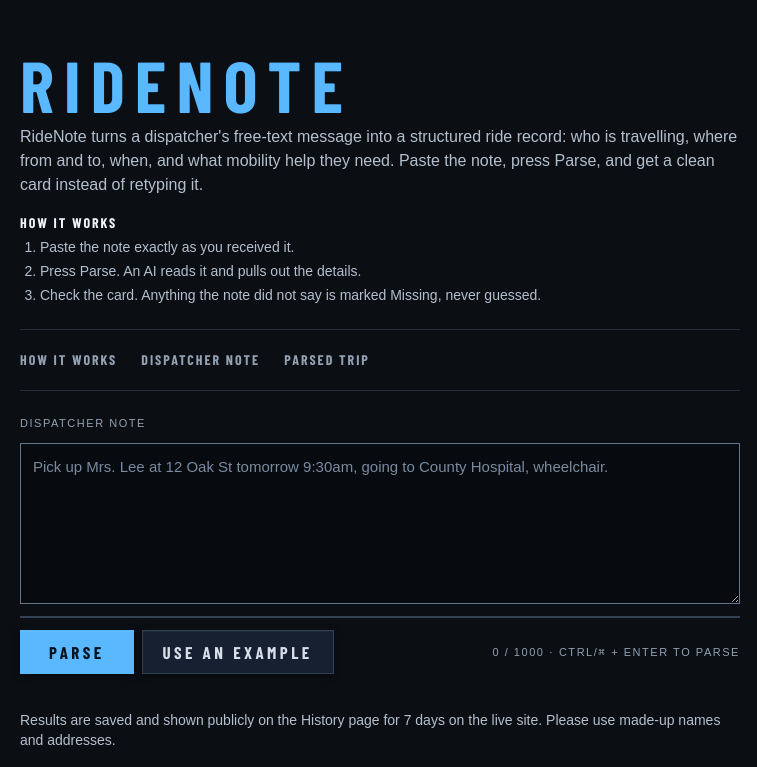
Test: Home page › loads an example note and parses it
This screenshot has width=757, height=767.
Click the button "Use an example": (238,652) [142, 630, 334, 674]
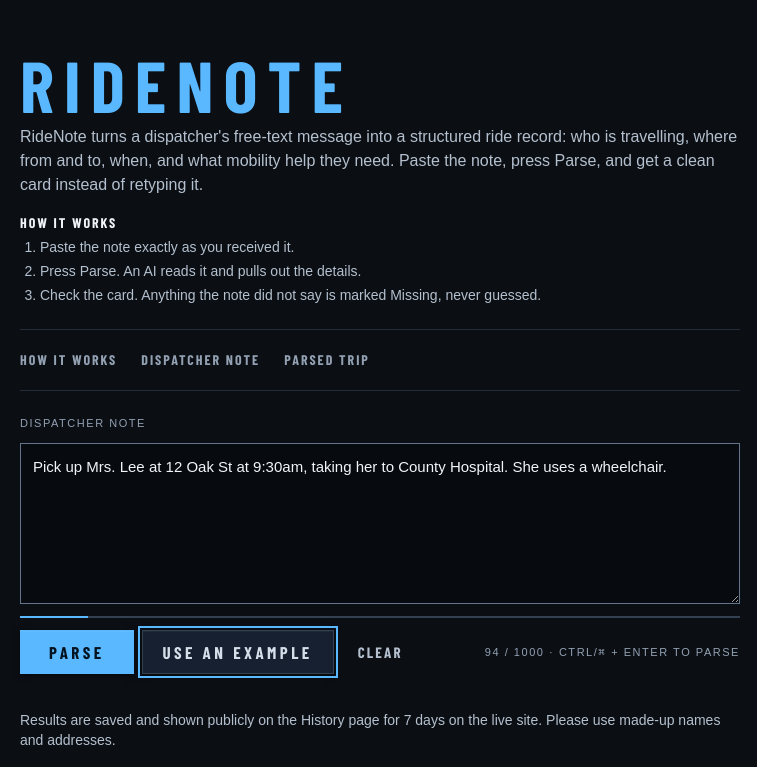
Check: the text box labelled "Dispatcher note" is not empty, box [20, 443, 740, 604]
Click the button "Parse": (77,652) [20, 630, 134, 674]
(page scrolled)
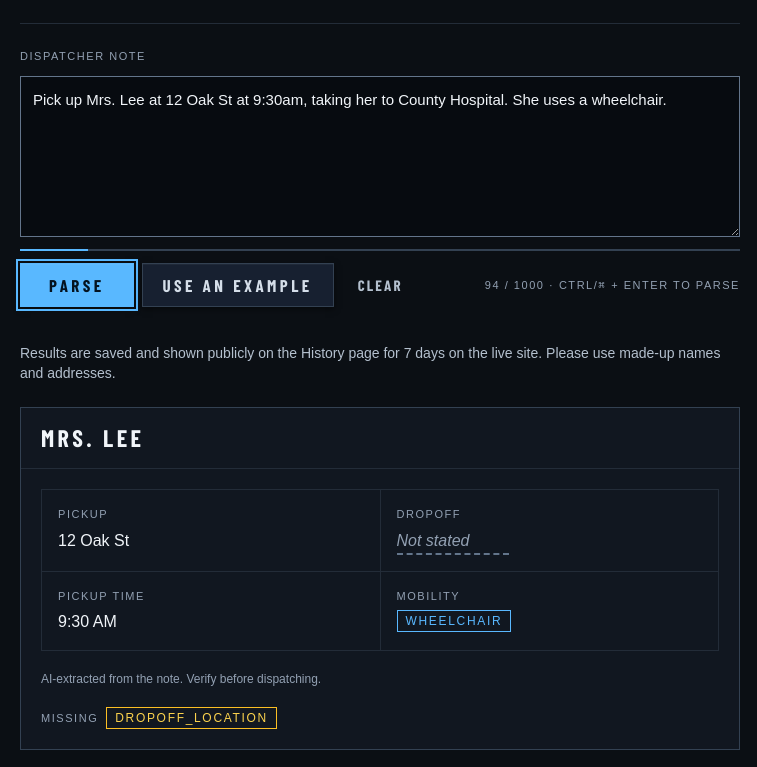
Check: the heading "Mrs. Lee" is shown, box [21, 408, 739, 469]
